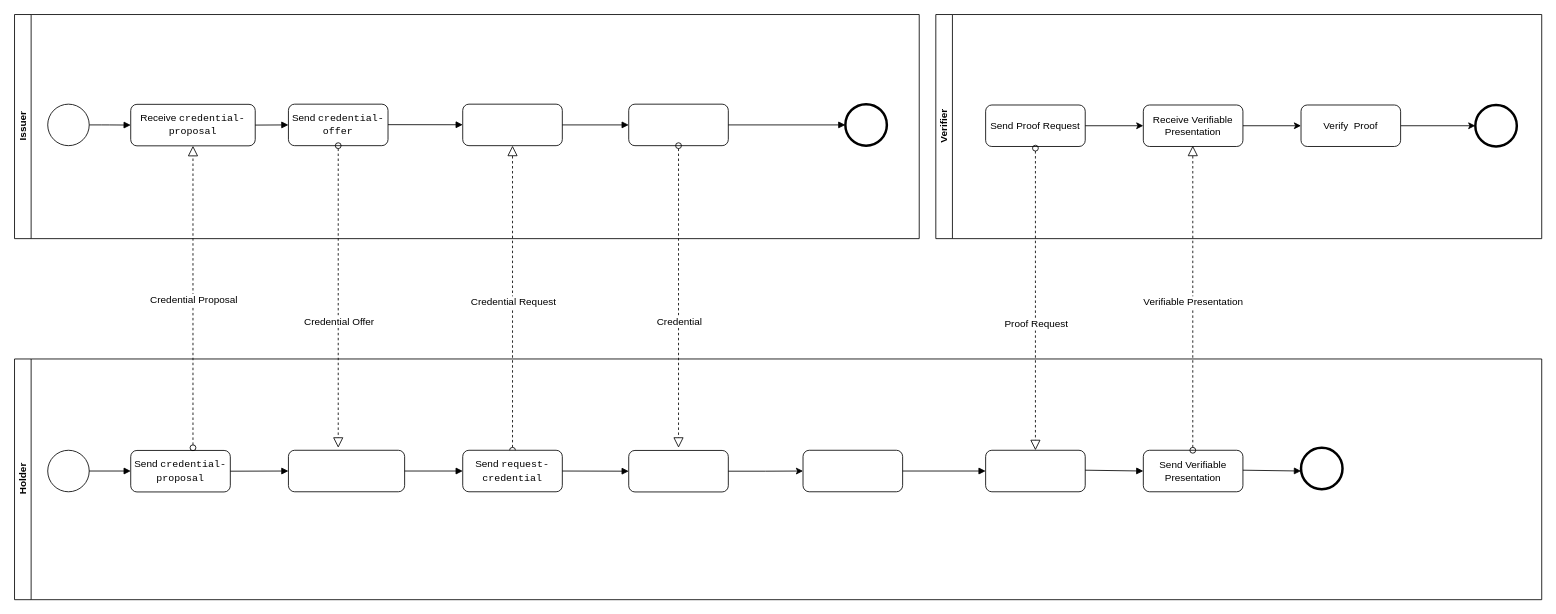
The diagram is 1556 pixels wide and 614 high, and some of its shapes have lost their labels. The centre of each missing label's shape, as x and y in pixels:
"Finish Credential" belongs at [852,470].
"Receive credential-offer" belongs at [346,470].
"Receive issue-credential" belongs at [678,471].
"Receive Proof Request" belongs at [1035,470].
"Receive request-credential" belongs at [512,124].
"Send issue-credential" belongs at [678,124].
